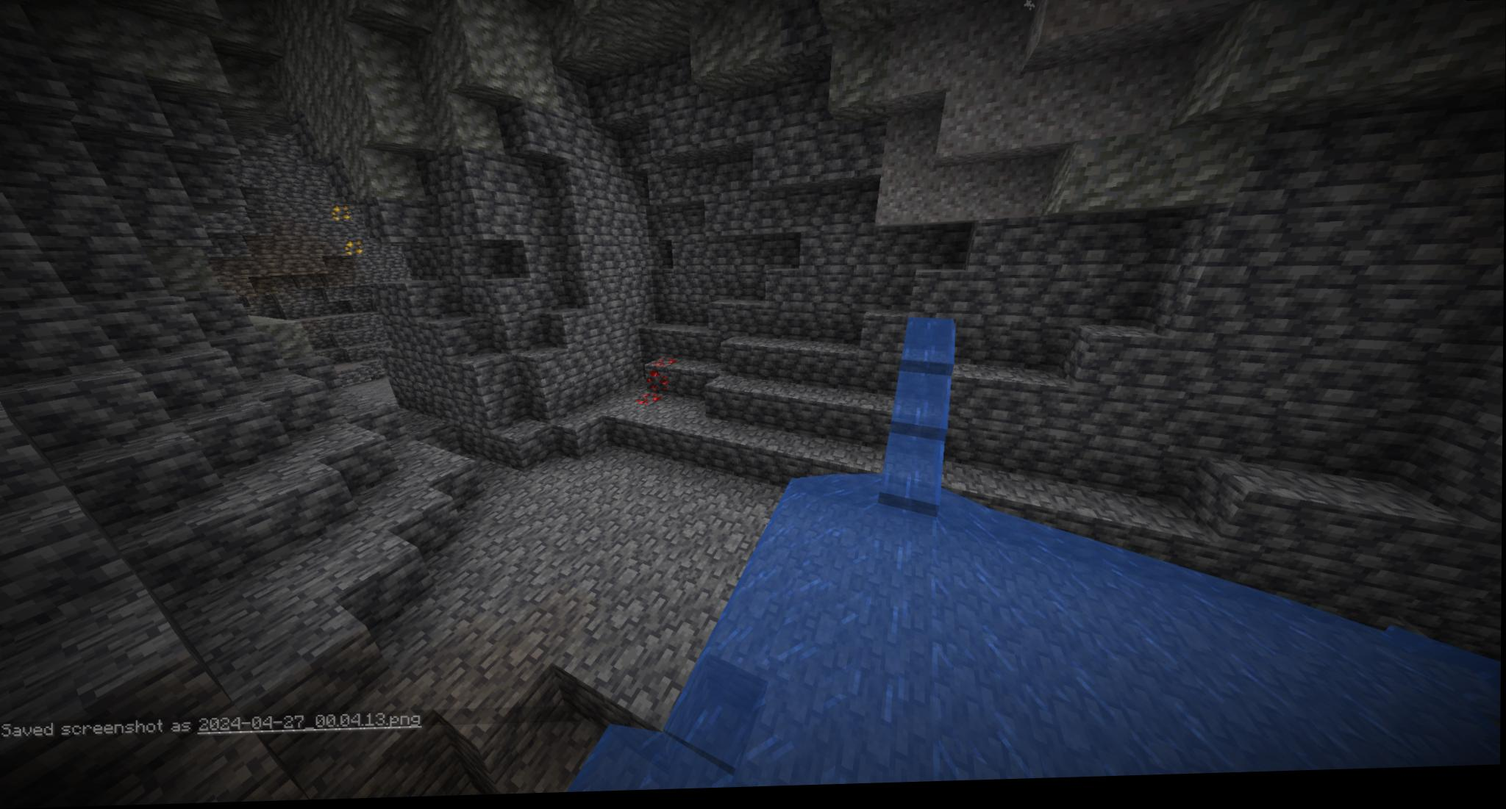gold ore: (325, 199, 351, 229), (341, 236, 365, 260)
redstone ore: (647, 358, 684, 393), (634, 395, 662, 411)
